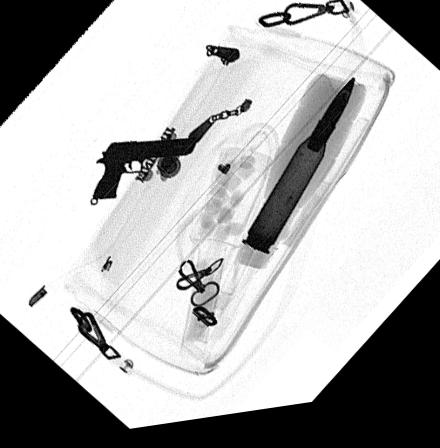Bullet: (241, 87, 356, 261)
Gun: (92, 142, 196, 203)
